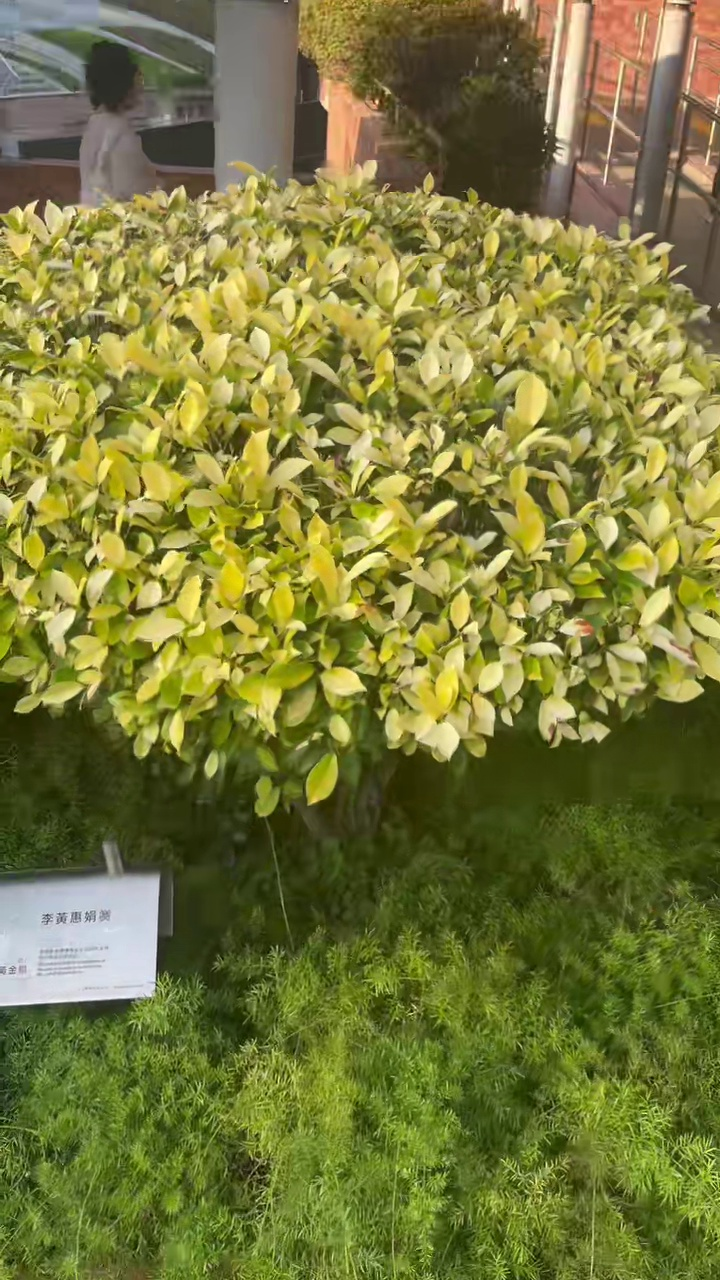Golden-leaves Fig: (0, 168, 719, 815)
